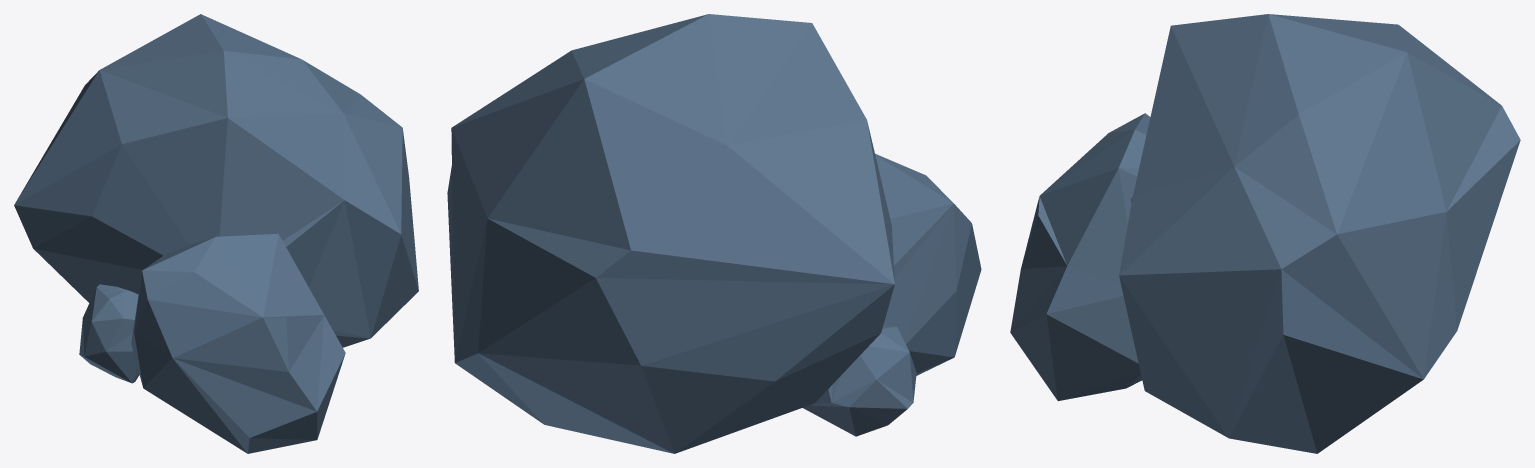
Rendered from roca6.fbx.
The picture shows the model from 3 angles, left to right: view 1: azimuth 30°, elevation 25°; view 2: azimuth 150°, elevation 25°; view 3: azimuth 270°, elevation 25°; orthographic projection. The views are drawn at different scales.
Parts seen in each view (by area): view 1: pPlatonic1, pPlatonic2, pPlatonic3; view 2: pPlatonic1, pPlatonic2, pPlatonic3; view 3: pPlatonic1, pPlatonic2.
Boxes of the visible parts, x1=… form: pPlatonic1: x1=14, y1=14, x2=418, y2=347; pPlatonic2: x1=131, y1=233, x2=345, y2=453; pPlatonic3: x1=79, y1=284, x2=139, y2=383; pPlatonic1: x1=447, y1=14, x2=894, y2=453; pPlatonic2: x1=875, y1=153, x2=981, y2=375; pPlatonic3: x1=802, y1=323, x2=916, y2=436; pPlatonic1: x1=1119, y1=14, x2=1520, y2=453; pPlatonic2: x1=1010, y1=113, x2=1150, y2=400.
Size of the model in its own units: 4.07 by 3.48 by 4.14.
